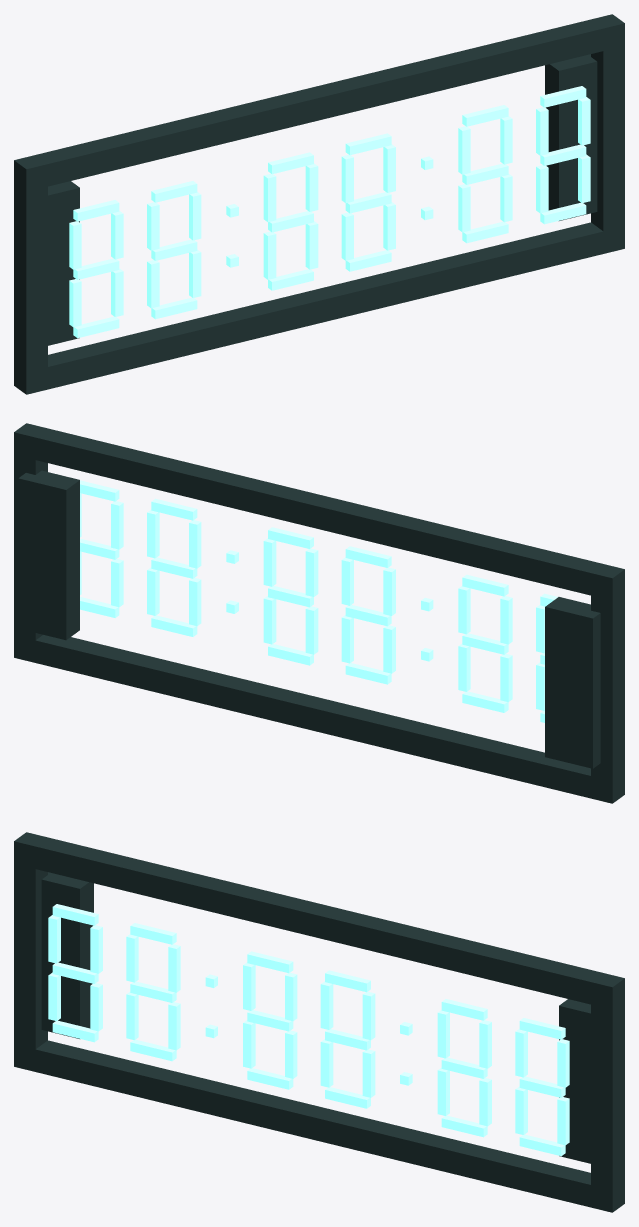
The model's file is digital-side-bracket-v1-model.glb.
3 renders of one model, top to bottom at view 1: azimuth 30°, elevation 25°; view 2: azimuth 150°, elevation 25°; view 3: azimuth 330°, elevation 25°, orthographic.
Visible parts, largest first — view 1: digital-frame-top, digital-frame-bottom, digital-frame-left, digital-bracket-right, digital-frame-right, digital-bracket-left, clock-digit-3-f, clock-digit-3-e, clock-digit-3-b, clock-digit-3-c, clock-digit-2-a, clock-digit-1-a (+36 smaller); view 2: digital-frame-top, digital-frame-bottom, digital-bracket-right, digital-bracket-left, digital-frame-left, digital-frame-right, clock-digit-4-e, clock-digit-4-f, clock-digit-4-b, clock-digit-4-c, clock-digit-5-a, clock-digit-6-f (+25 smaller); view 3: digital-frame-top, digital-frame-bottom, digital-frame-right, digital-bracket-left, digital-frame-left, digital-bracket-right, clock-digit-4-b, clock-digit-4-c, clock-digit-4-f, clock-digit-4-e, clock-digit-5-a, clock-digit-1-a (+36 smaller).
Part boxes in pixels (bbox=[...]): digital-frame-top: bbox=[14, 14, 624, 191]; digital-frame-bottom: bbox=[14, 222, 624, 394]; digital-frame-left: bbox=[14, 183, 47, 372]; digital-bracket-right: bbox=[545, 54, 597, 220]; digital-frame-right: bbox=[591, 46, 624, 231]; digital-bracket-left: bbox=[48, 181, 79, 345]; clock-digit-3-f: bbox=[263, 173, 276, 222]; clock-digit-3-e: bbox=[263, 231, 276, 279]; clock-digit-3-b: bbox=[305, 163, 318, 211]; clock-digit-3-c: bbox=[305, 221, 318, 269]; clock-digit-2-a: bbox=[151, 181, 197, 202]; clock-digit-1-a: bbox=[73, 200, 119, 221]; digital-frame-top: bbox=[14, 423, 624, 600]; digital-frame-bottom: bbox=[14, 635, 624, 803]; digital-bracket-right: bbox=[18, 470, 79, 640]; digital-bracket-left: bbox=[545, 597, 600, 768]; digital-frame-left: bbox=[591, 592, 624, 781]; digital-frame-right: bbox=[14, 455, 47, 640]; clock-digit-4-e: bbox=[305, 606, 318, 654]; clock-digit-4-f: bbox=[305, 548, 318, 596]; clock-digit-4-b: bbox=[263, 538, 276, 586]; clock-digit-4-c: bbox=[263, 596, 276, 644]; clock-digit-5-a: bbox=[151, 498, 197, 520]; clock-digit-6-f: bbox=[111, 501, 123, 549]; digital-frame-top: bbox=[14, 832, 624, 1009]; digital-frame-bottom: bbox=[14, 1040, 624, 1212]; digital-frame-right: bbox=[591, 1001, 624, 1190]; digital-bracket-left: bbox=[41, 872, 93, 1038]; digital-frame-left: bbox=[14, 864, 47, 1049]; digital-bracket-right: bbox=[559, 999, 590, 1163]; clock-digit-4-b: bbox=[362, 991, 375, 1040]; clock-digit-4-c: bbox=[362, 1049, 375, 1097]; clock-digit-4-f: bbox=[320, 981, 333, 1029]; clock-digit-4-e: bbox=[320, 1039, 333, 1087]; clock-digit-5-a: bbox=[441, 999, 487, 1020]; clock-digit-1-a: bbox=[52, 904, 98, 925].
Bounding box in the file's own units: 0.5 × 0.18 × 0.038.
